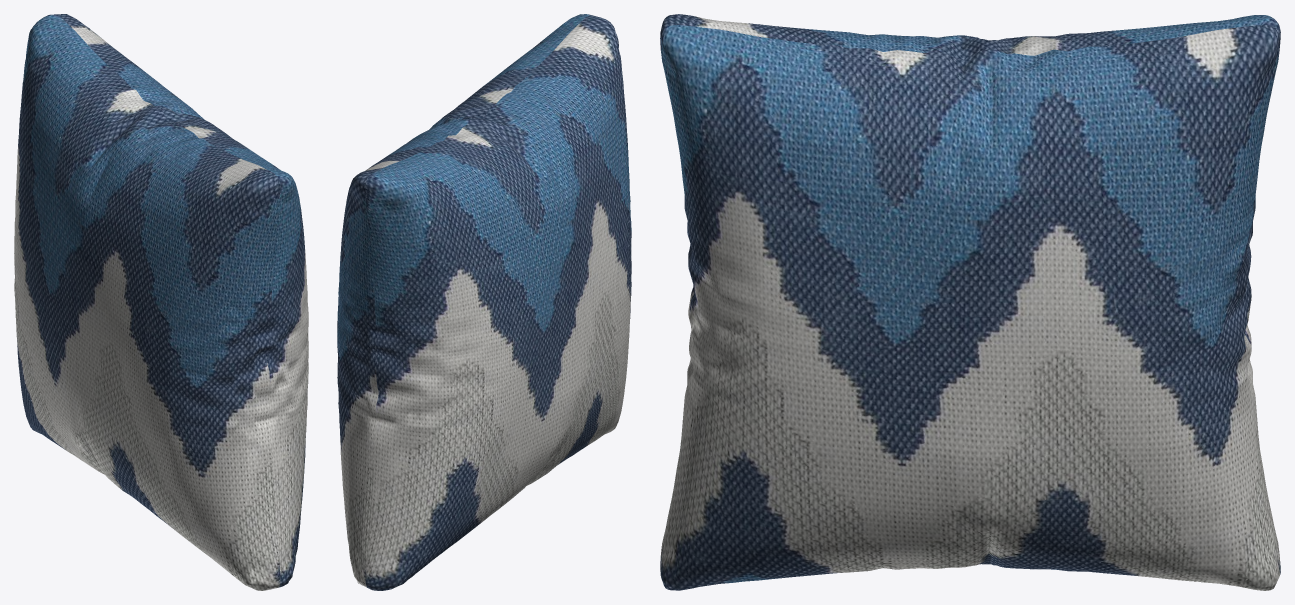
The model's file is cushion03.fbx.
3 renders of one model, left to right at view 1: azimuth 30°, elevation 25°; view 2: azimuth 150°, elevation 25°; view 3: azimuth 270°, elevation 25°, orthographic. The views are drawn at different scales.
Parts seen in each view (by area): view 1: Mesh1; view 2: Mesh1; view 3: Mesh1.
Boxes of the visible parts, box(x1,y1,x2,y2) form: Mesh1: box(14, 14, 308, 590); Mesh1: box(337, 14, 631, 590); Mesh1: box(660, 14, 1280, 590).
Size of the model in its own units: 1.97 by 4.48 by 4.48.
Materials: 1 (1 with a texture image).
